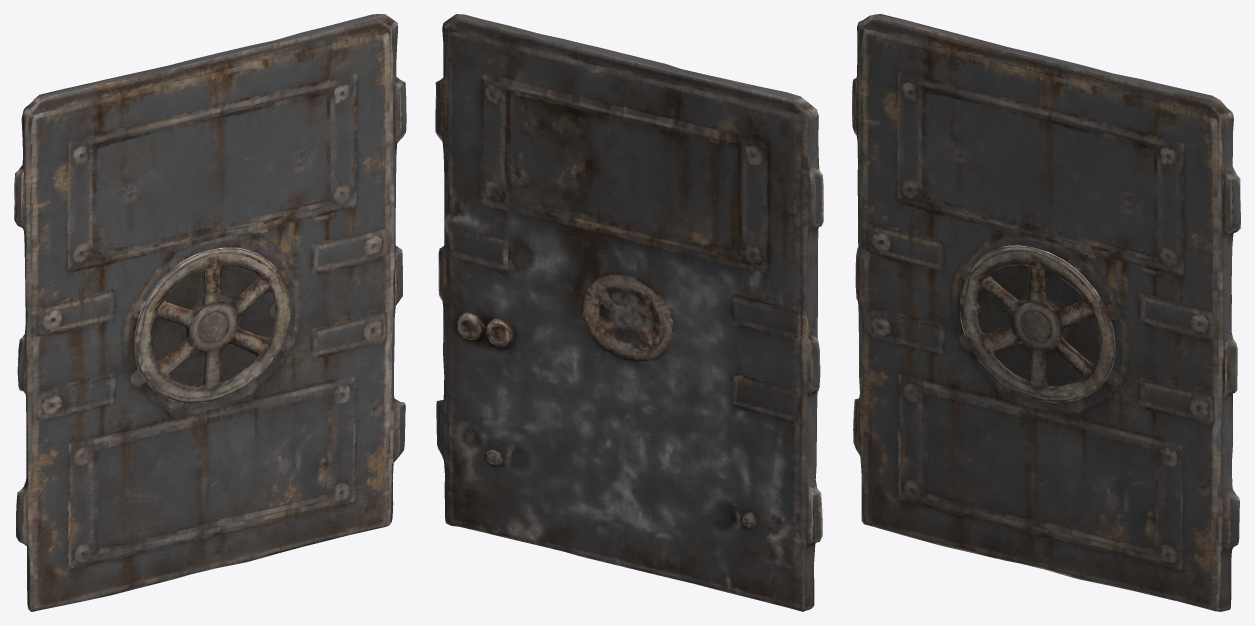
The model's file is bunker_blast_door_candidate.glb.
3 renders of one model, left to right at view 1: azimuth 30°, elevation 25°; view 2: azimuth 150°, elevation 25°; view 3: azimuth 330°, elevation 25°, orthographic.
Parts seen in each view (by area): view 1: bunker_blast_door_candidate; view 2: bunker_blast_door_candidate; view 3: bunker_blast_door_candidate.
Boxes of the visible parts, x1,y1,x2,y2 form: bunker_blast_door_candidate: (14,14,406,611); bunker_blast_door_candidate: (435,14,823,611); bunker_blast_door_candidate: (852,14,1240,611).
Size of the model in its own units: 2.15 by 2.7 by 0.12.
1 material, 1 textured.
